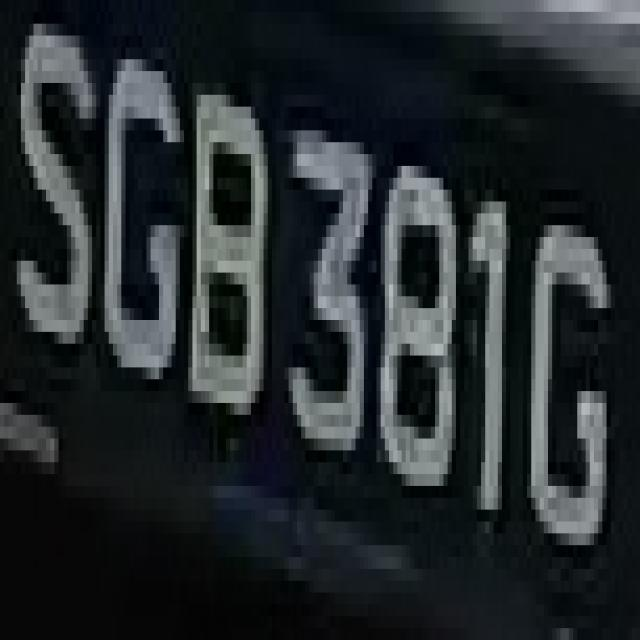1: (452, 190, 514, 533)
3: (289, 107, 372, 450)
8: (376, 106, 464, 522)
B: (188, 71, 280, 439)
G: (527, 154, 611, 593), (100, 59, 188, 391)
S: (12, 23, 100, 356)
